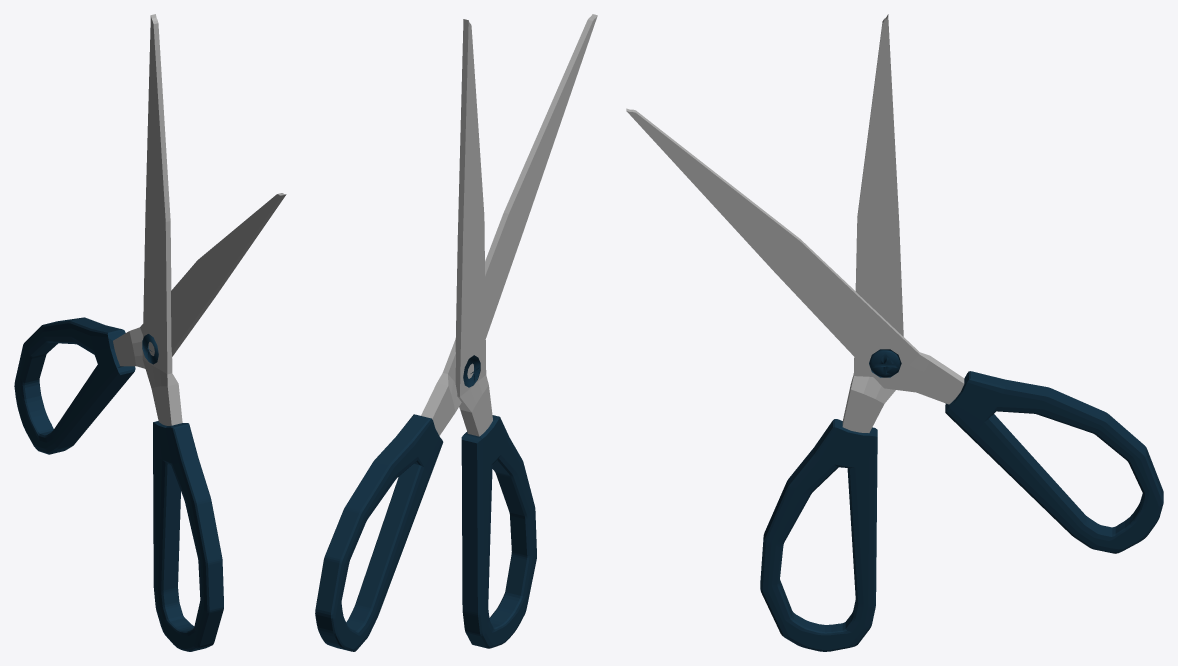
File: scissors.fbx
3 renders of one model, left to right at view 1: azimuth 30°, elevation 25°; view 2: azimuth 150°, elevation 25°; view 3: azimuth 270°, elevation 25°, orthographic. The views are drawn at different scales.
Visible parts, largest first — view 1: Cube.001; view 2: Cube.001; view 3: Cube.001.
Boxes of the visible parts, <box> form: Cube.001: <box>14,14,286,651</box>; Cube.001: <box>315,14,597,651</box>; Cube.001: <box>626,14,1163,651</box>.
Bounding box in the file's own units: 56.91 × 1724 × 1329.
